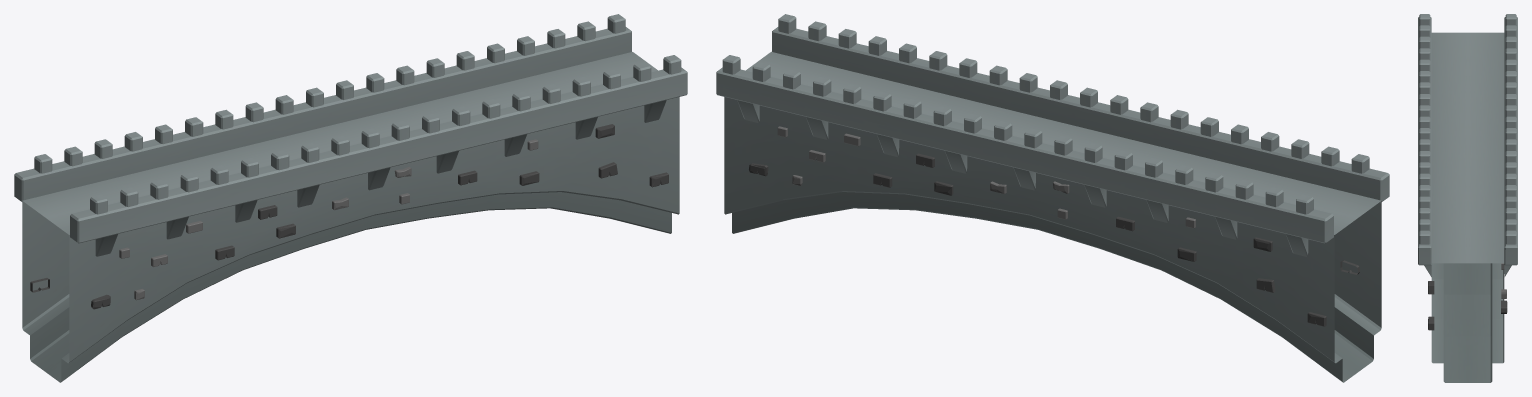
The model's file is ZLP_Build_C_6.FBX.
3 renders of one model, left to right at view 1: azimuth 30°, elevation 25°; view 2: azimuth 150°, elevation 25°; view 3: azimuth 270°, elevation 25°, orthographic. The views are drawn at different scales.
Parts seen in each view (by area): view 1: ZLP_Build_C_6; view 2: ZLP_Build_C_6; view 3: ZLP_Build_C_6.
Boxes of the visible parts, x1=… form: ZLP_Build_C_6: x1=14, y1=14, x2=687, y2=382; ZLP_Build_C_6: x1=716, y1=14, x2=1389, y2=382; ZLP_Build_C_6: x1=1418, y1=14, x2=1517, y2=382.
Bounding box in the file's own units: 2924 × 863 × 535.
